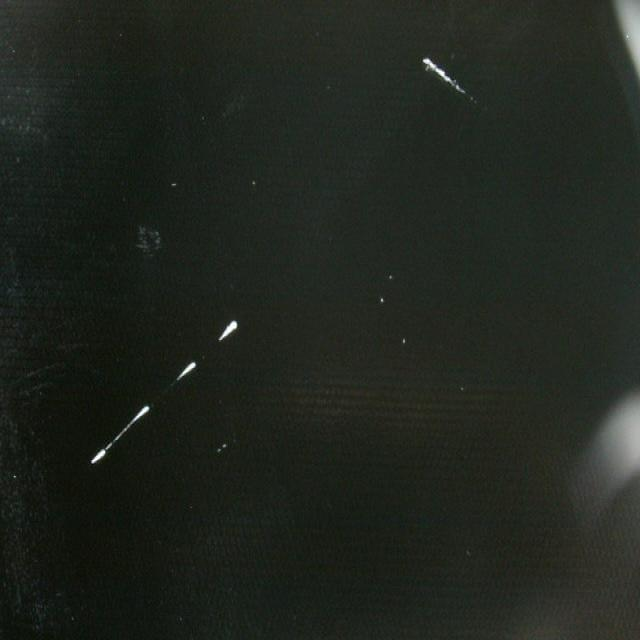scratch: (85, 312, 246, 470), (418, 50, 478, 107)
